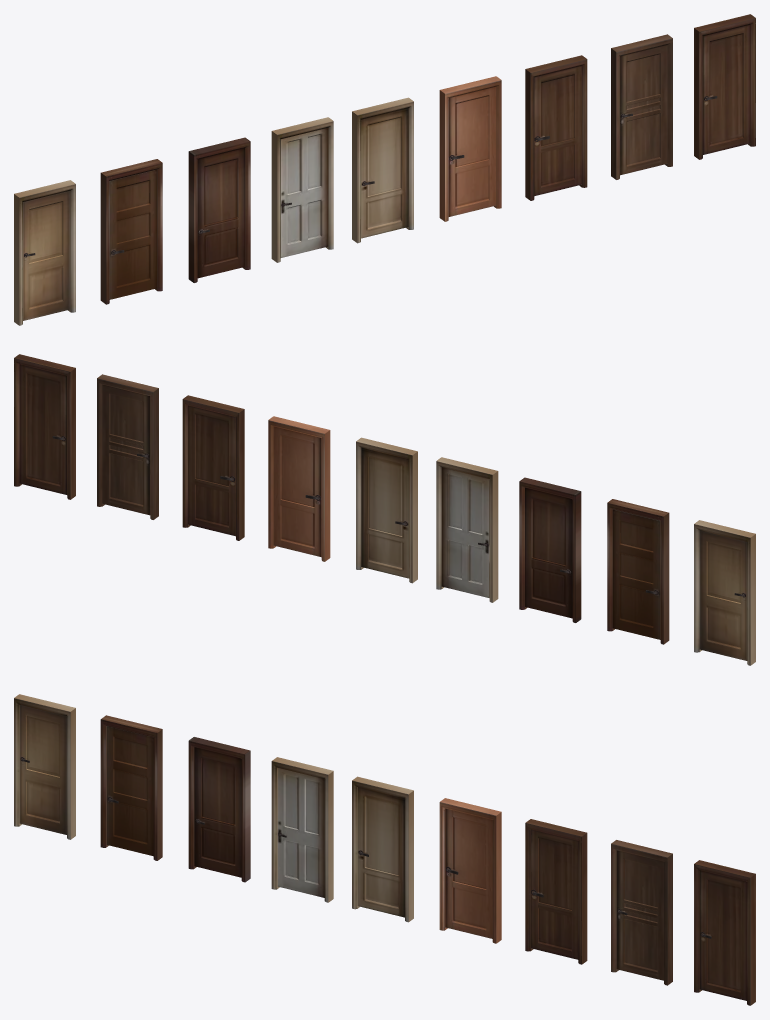
The model's file is doors.glb.
The picture shows the model from 3 angles, top to bottom: view 1: azimuth 30°, elevation 25°; view 2: azimuth 150°, elevation 25°; view 3: azimuth 330°, elevation 25°; orthographic projection.
Parts seen in each view (by area): view 1: Wooden Door_001_Doors_0; view 2: Wooden Door_001_Doors_0; view 3: Wooden Door_001_Doors_0.
Part boxes in pixels (box(x1,y1,x2,y2)): Wooden Door_001_Doors_0: box(14, 14, 755, 325); Wooden Door_001_Doors_0: box(14, 354, 755, 665); Wooden Door_001_Doors_0: box(14, 694, 755, 1005).
Size of the model in its own units: 11.67 by 1.94 by 0.1736.
1 material, 1 textured.
